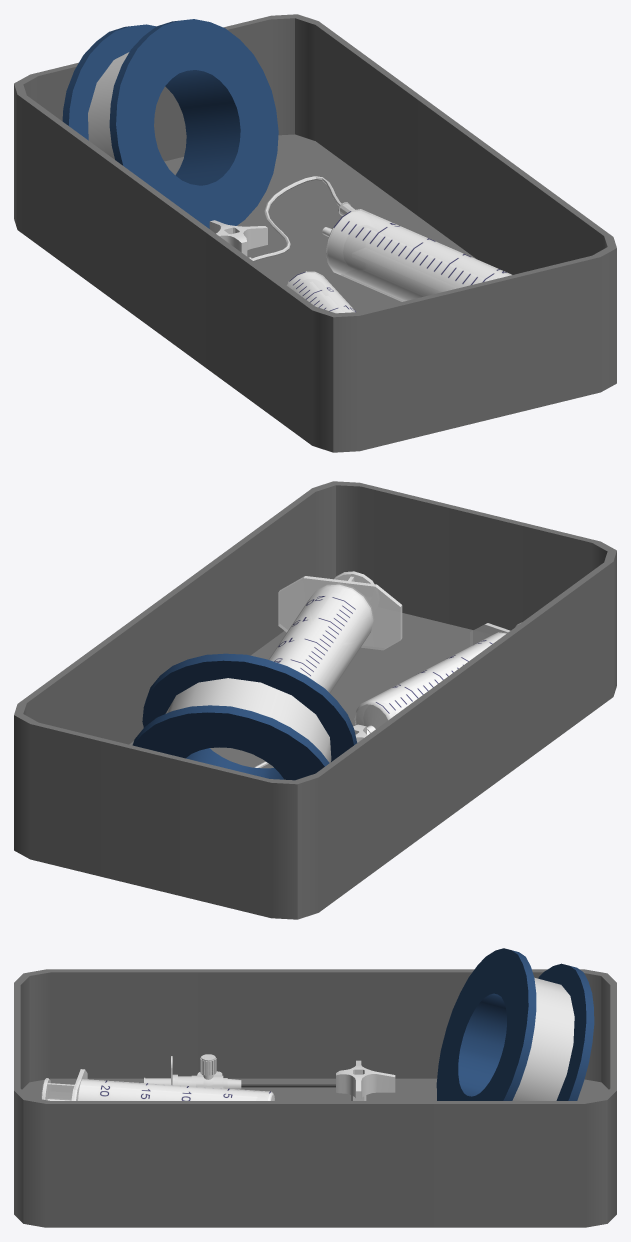
The model's file is bochockhiphoi.fbx.
3 renders of one model, top to bottom at view 1: azimuth 30°, elevation 25°; view 2: azimuth 150°, elevation 25°; view 3: azimuth 270°, elevation 25°, orthographic. The views are drawn at different scales.
Parts seen in each view (by area): view 1: hop, bochockhiphoi; view 2: hop, bochockhiphoi; view 3: hop, bochockhiphoi.
Part boxes in pixels (<box>): hop: <box>14,14,616,452</box>; bochockhiphoi: <box>62,19,511,313</box>; hop: <box>14,481,616,919</box>; bochockhiphoi: <box>132,571,521,780</box>; hop: <box>14,969,616,1227</box>; bochockhiphoi: <box>41,948,594,1100</box>.
Bounding box in the file's own units: 3.67 × 2.46 × 6.96.
Materials: 9 (1 with a texture image).
